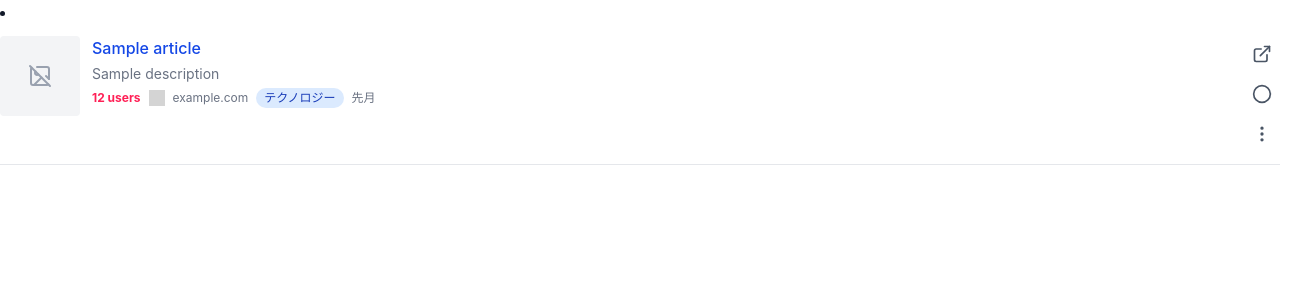
Test: overflow menu › closes on Escape
The image size is (1292, 300).
Click the button named "その他の操作". click: (1262, 134)
box: x1=1244 y1=116 x2=1280 y2=152
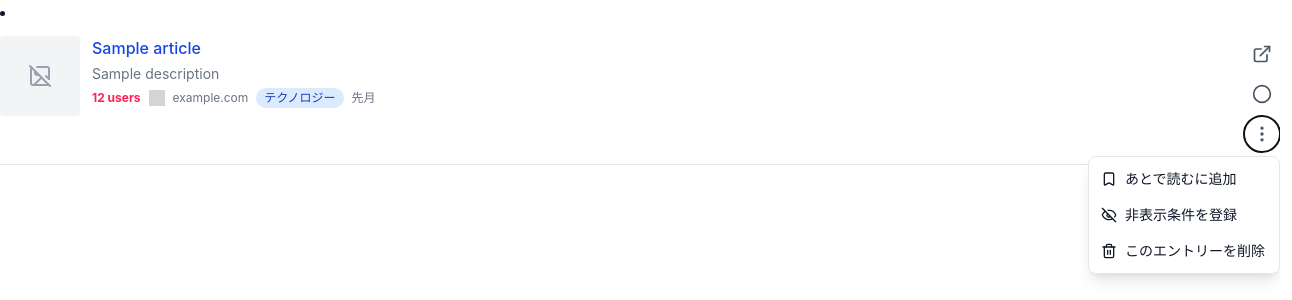
Expected: the menu is shown, x1=1088 y1=156 x2=1280 y2=274
Press Escape
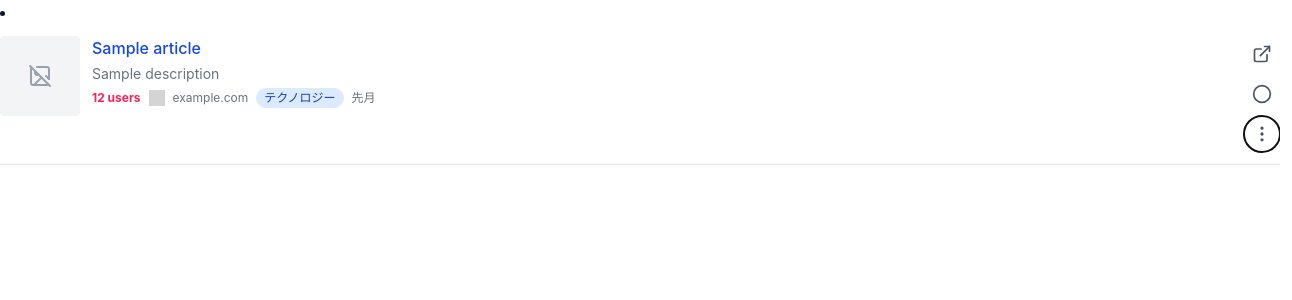
Expected: the menu is gone
